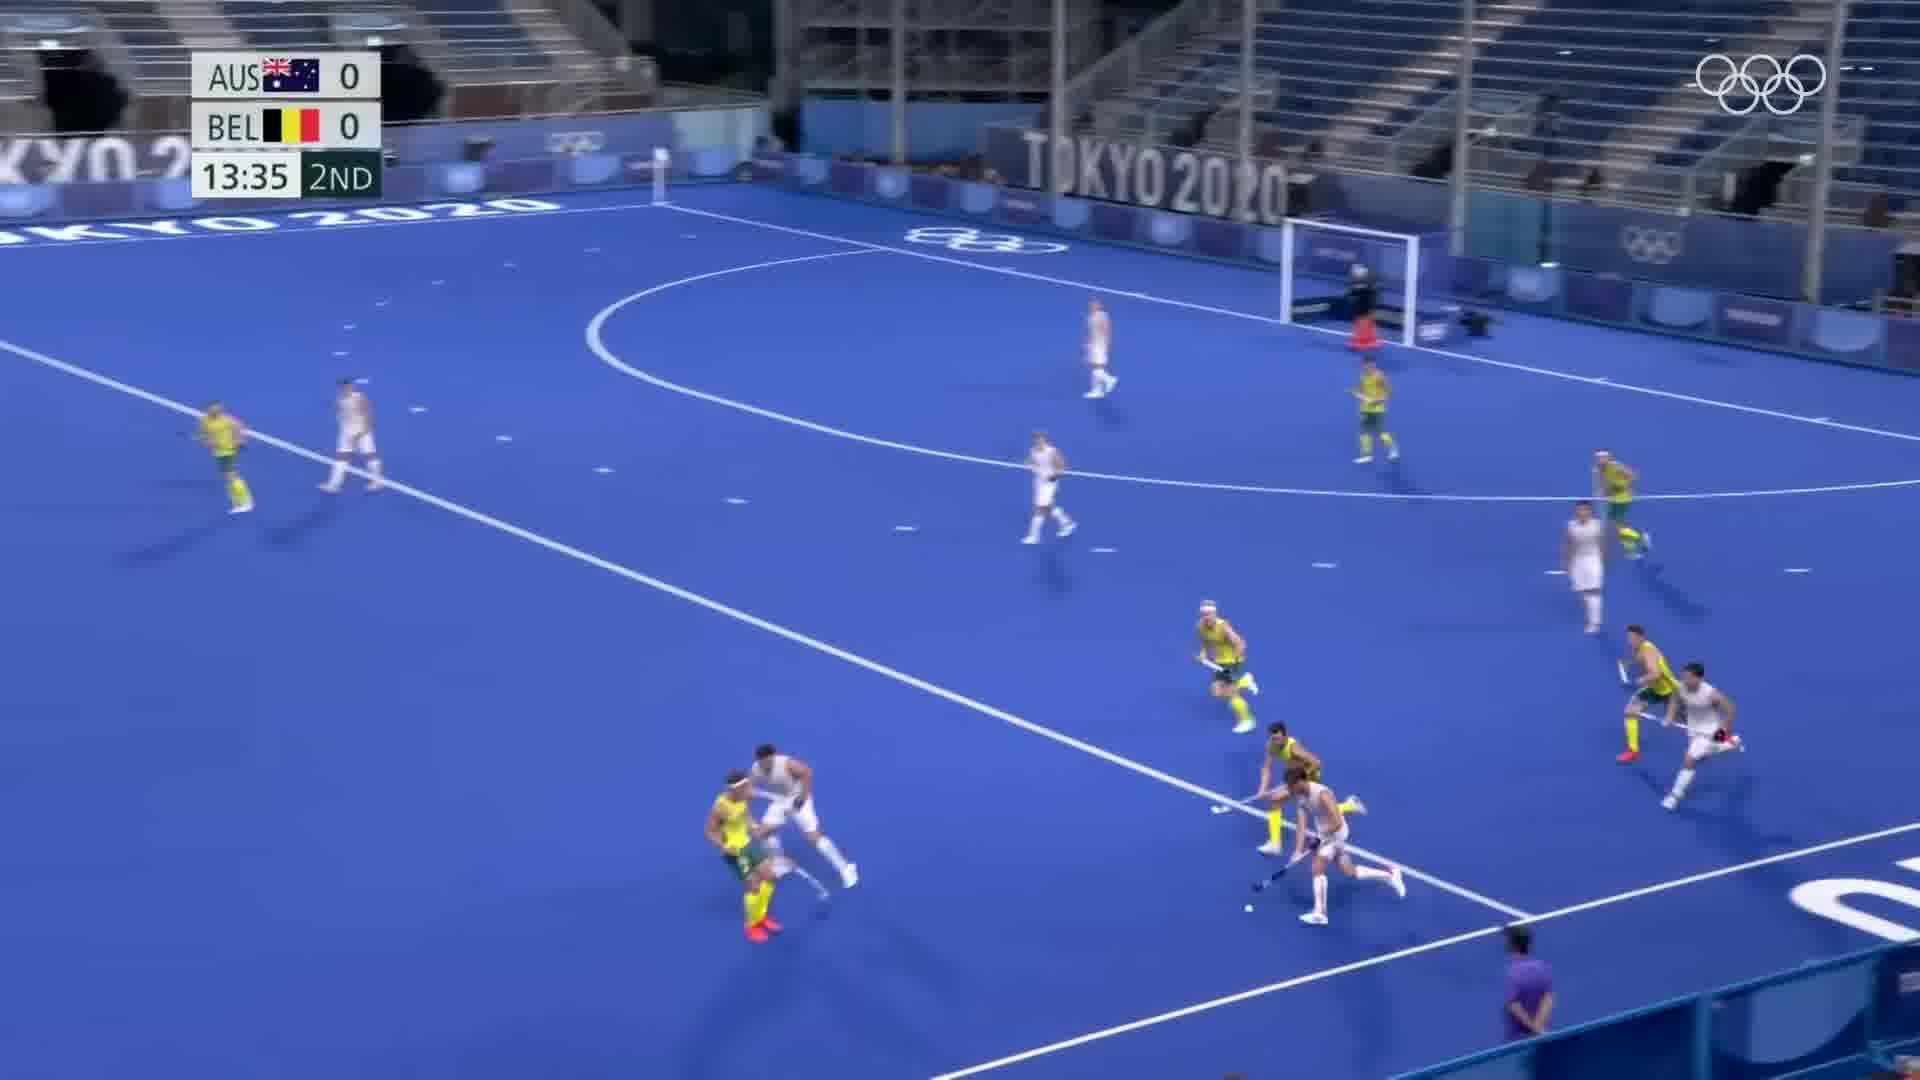ball: (1240, 894, 1261, 920)
